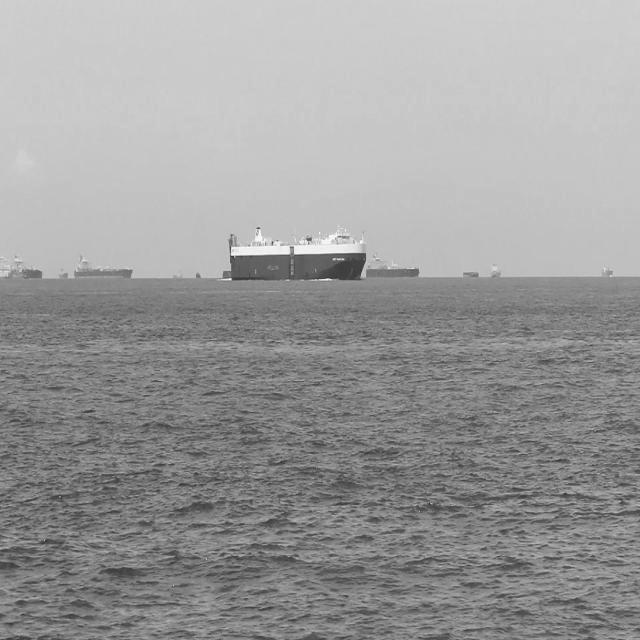ship: (230, 227, 368, 286), (358, 255, 421, 282), (74, 253, 136, 280), (8, 258, 45, 284), (51, 262, 70, 284), (488, 262, 503, 284), (0, 259, 11, 287), (598, 260, 612, 282), (460, 267, 480, 281), (173, 268, 186, 288), (192, 264, 201, 286), (222, 268, 232, 284)
